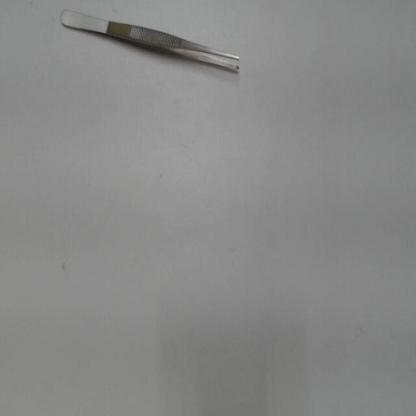Gillies Toothed Dissector: (56, 3, 246, 79)
